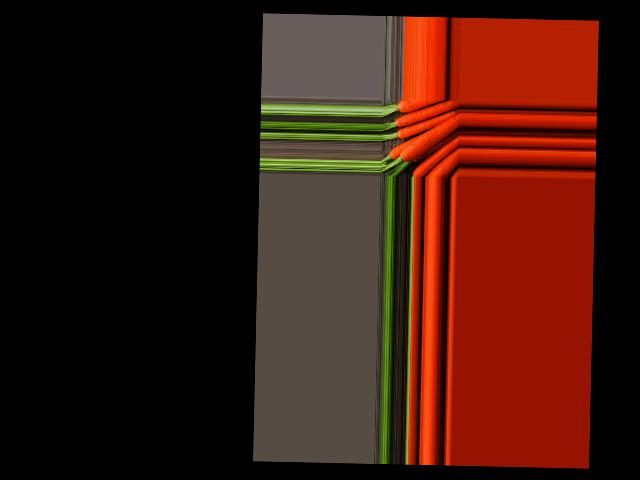carrot: (412, 140, 459, 177)
